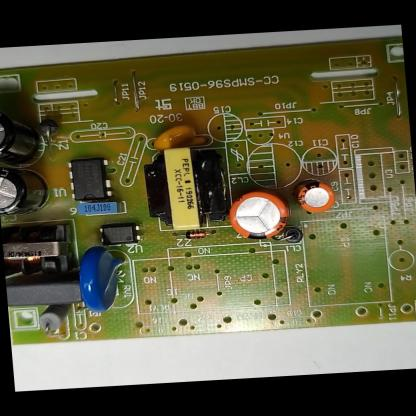Cap1: (228, 188, 291, 242)
Cap2: (298, 182, 336, 214)
Cap3: (0, 164, 54, 217)
Cap4: (0, 105, 44, 166)
MOSFET: (66, 157, 115, 203)
Mov: (76, 243, 130, 316)
Resistor: (36, 301, 74, 333)
Transformer: (140, 144, 232, 232), (1, 222, 79, 280)
